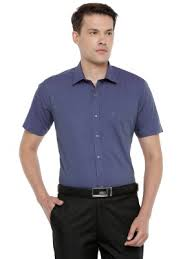F_belt: (55, 175, 140, 205)
F_dress pants: (55, 185, 147, 259)
F_shirt: (13, 51, 164, 187)
